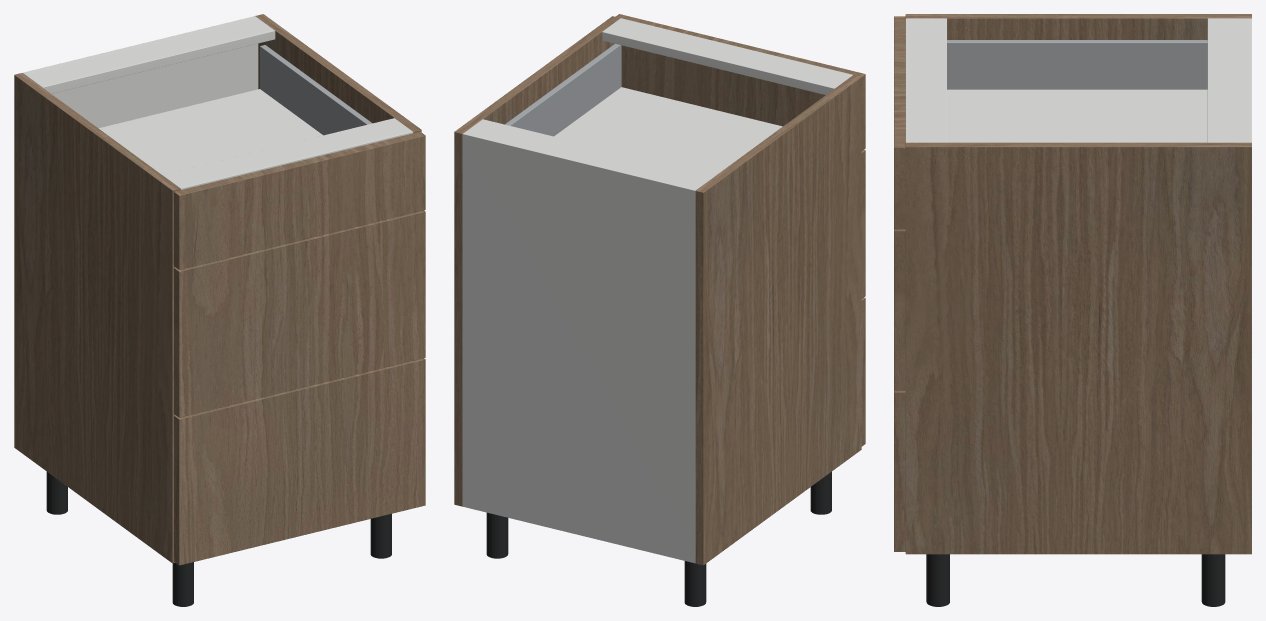
File: oppein-pb-mnw-3db21.glb
3 renders of one model, left to right at view 1: azimuth 30°, elevation 25°; view 2: azimuth 150°, elevation 25°; view 3: azimuth 270°, elevation 25°, orthographic. The views are drawn at different scales.
Parts seen in each view (by area): view 1: Cabinet side, Drawer front, Drawer front.001, Drawer front.002, Drawer floor.002, Cabinet back, Top support rail, Top support rail.001, Drawer side.005, Cabinet side.001, Adjustable foot.001, Adjustable foot.003 (+1 smaller); view 2: Cabinet back, Cabinet side, Drawer floor.002, Drawer front.002, Cabinet side.001, Top support rail.001, Drawer side.005, Top support rail, Adjustable foot, Adjustable foot.002, Adjustable foot.001, Drawer front (+1 smaller); view 3: Cabinet side.001, Drawer floor.002, Drawer side.004, Cabinet side, Top support rail.001, Top support rail, Drawer front.002, Drawer front, Drawer front.001, Adjustable foot.002, Adjustable foot.003, Cabinet back.
Boxes of the visible parts, bbox=[...] form: Cabinet side: bbox=[14, 73, 180, 563]; Drawer front: bbox=[174, 358, 425, 565]; Drawer front.001: bbox=[174, 210, 425, 417]; Drawer front.002: bbox=[174, 131, 425, 269]; Drawer floor.002: bbox=[99, 89, 322, 174]; Cabinet back: bbox=[23, 16, 258, 128]; Top support rail: bbox=[24, 18, 275, 93]; Top support rail.001: bbox=[162, 118, 413, 189]; Drawer side.005: bbox=[260, 45, 372, 135]; Cabinet side.001: bbox=[255, 14, 421, 133]; Adjustable foot.001: bbox=[172, 562, 193, 606]; Adjustable foot.003: bbox=[370, 514, 391, 558]; Cabinet back: bbox=[462, 132, 697, 563]; Cabinet side: bbox=[695, 75, 861, 565]; Drawer floor.002: bbox=[554, 87, 782, 175]; Drawer front.002: bbox=[615, 14, 865, 150]; Cabinet side.001: bbox=[454, 16, 620, 506]; Top support rail.001: bbox=[602, 18, 852, 94]; Drawer side.005: bbox=[505, 43, 621, 136]; Top support rail: bbox=[466, 119, 714, 188]; Adjustable foot: bbox=[684, 561, 706, 606]; Adjustable foot.002: bbox=[486, 512, 508, 558]; Adjustable foot.001: bbox=[810, 471, 831, 514]; Drawer front: bbox=[861, 297, 865, 446]; Cabinet side.001: bbox=[905, 142, 1251, 554]; Drawer floor.002: bbox=[947, 89, 1207, 142]; Drawer side.004: bbox=[947, 40, 1207, 89]; Cabinet side: bbox=[905, 14, 1251, 39]; Top support rail.001: bbox=[905, 18, 946, 142]; Top support rail: bbox=[1207, 18, 1245, 142]; Drawer front.002: bbox=[894, 16, 905, 229]; Drawer front: bbox=[894, 390, 905, 551]; Drawer front.001: bbox=[894, 229, 905, 390]; Adjustable foot.002: bbox=[1201, 554, 1225, 606]; Adjustable foot.003: bbox=[926, 554, 949, 606]; Cabinet back: bbox=[1245, 18, 1251, 142].
Bounding box in the file's own units: 0.5334 × 0.8763 × 0.6064.
Materials: 4 (1 with a texture image).
